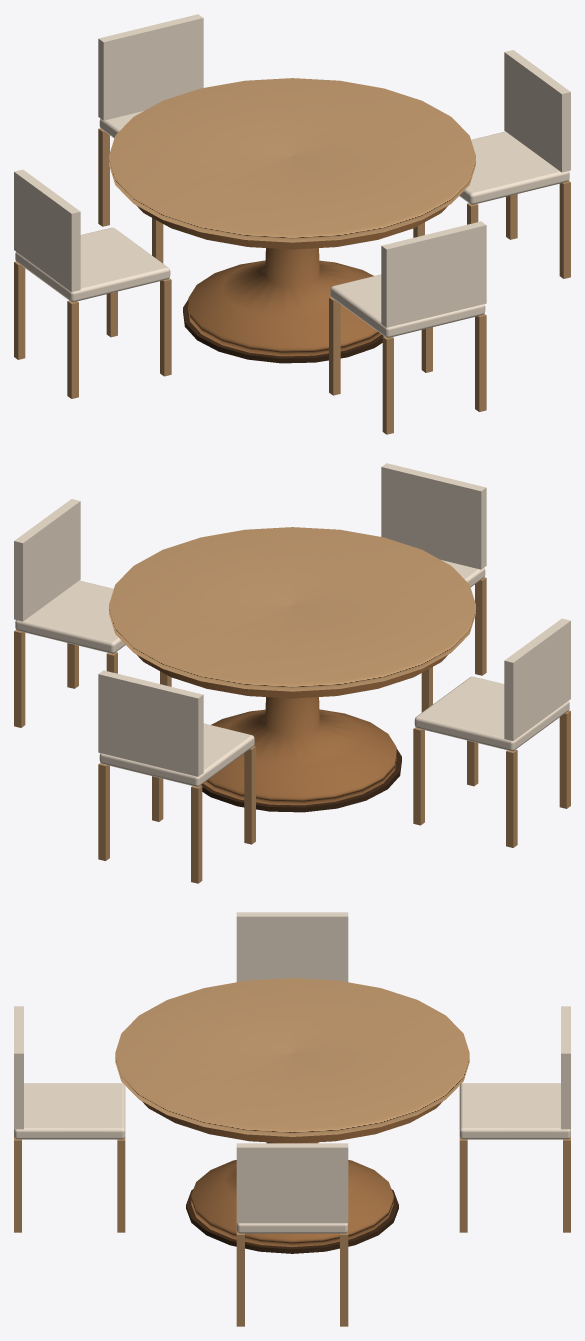
The model's file is rounddiningtable-lite.glb.
The picture shows the model from 3 angles, top to bottom: view 1: azimuth 30°, elevation 25°; view 2: azimuth 150°, elevation 25°; view 3: azimuth 270°, elevation 25°; orthographic projection. The views are drawn at different scales.
Parts seen in each view (by area): view 1: material-0-top, material-5-cushion, material-2-body, material-4-leg, material-3-trim, material-1-base; view 2: material-0-top, material-5-cushion, material-2-body, material-4-leg, material-3-trim, material-1-base; view 3: material-0-top, material-5-cushion, material-2-body, material-4-leg, material-3-trim, material-1-base.
Boxes of the visible parts, x1,y1,x2,y2 form: material-0-top: (109,78,475,242); material-5-cushion: (14,14,570,337); material-2-body: (188,248,381,356); material-4-leg: (14,128,570,434); material-3-trim: (136,205,448,249); material-1-base: (183,299,383,363); material-0-top: (109,527,475,691); material-5-cushion: (14,463,570,786); material-2-body: (203,697,396,805); material-4-leg: (14,577,570,883); material-3-trim: (136,654,448,698); material-1-base: (201,748,401,812); material-0-top: (115,978,469,1136); material-5-cushion: (14,912,570,1233); material-2-body: (191,1142,393,1247); material-4-leg: (14,1137,570,1326); material-3-trim: (142,1101,442,1143); material-1-base: (186,1189,398,1253).
Size of the model in its own units: 2.2 by 0.78 by 2.2.
